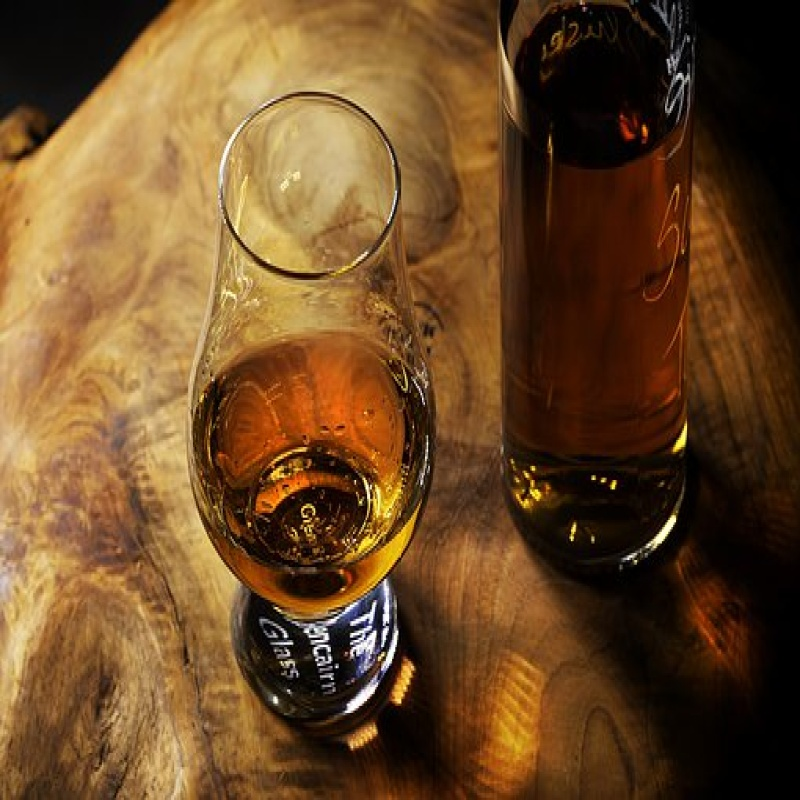whiskey: (187, 94, 431, 754)
